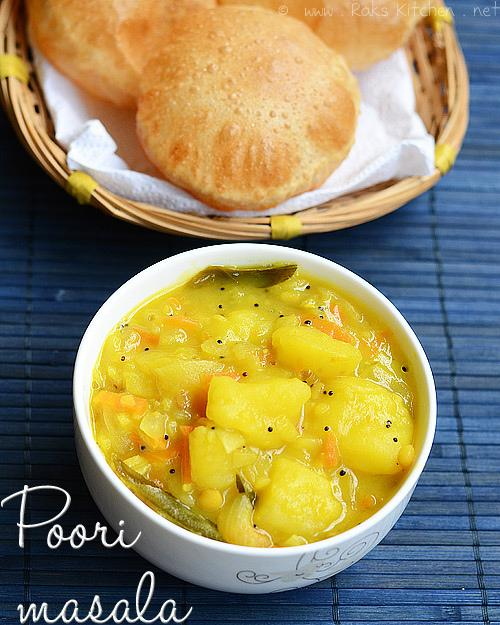puri: (20, 0, 500, 213)
